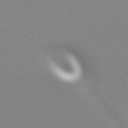normal: (78, 77, 128, 128)
